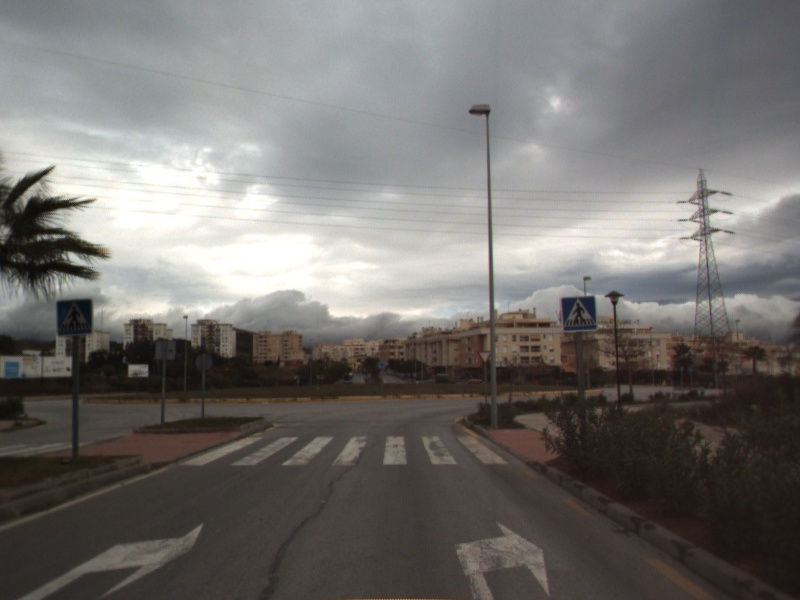RIGHT: (15, 519, 206, 600), (452, 519, 551, 600)
